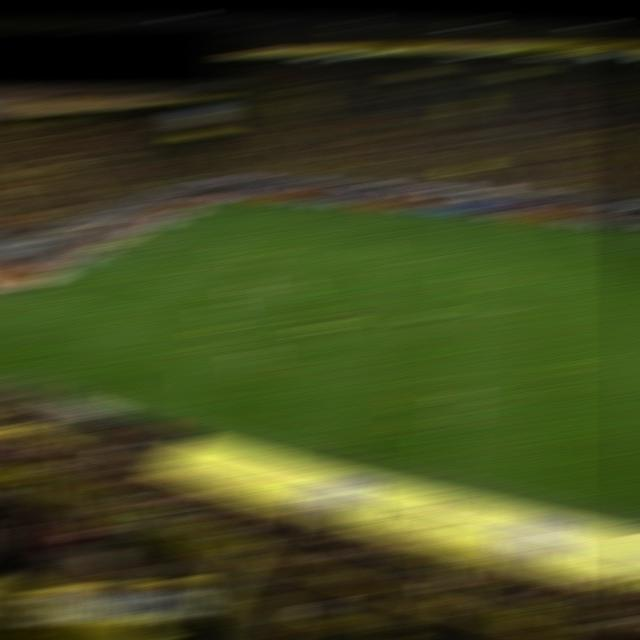bigarea_bottom_inner: (106, 308, 139, 318)
bigarea_bottom_outter: (6, 291, 39, 302)
bigarea_top_inner: (246, 215, 279, 226)
bigarea_top_outter: (167, 211, 202, 221)
bottom_arc_area_intersection: (169, 267, 202, 277)
corner: (204, 197, 238, 207)
halfcircle_bottom: (445, 305, 478, 316)
halfcircle_top: (448, 253, 482, 263)
midline_bottom_intersection: (430, 473, 468, 490)
midline_top_intersection: (451, 213, 485, 224)
smallarea_bottom_inner: (94, 265, 128, 275)
smallarea_bottom_outter: (67, 260, 101, 270)
smallarea_top_inner: (163, 228, 196, 238)
smallarea_top_outter: (134, 227, 168, 236)
top_arc_area_intersection: (216, 236, 250, 245)
